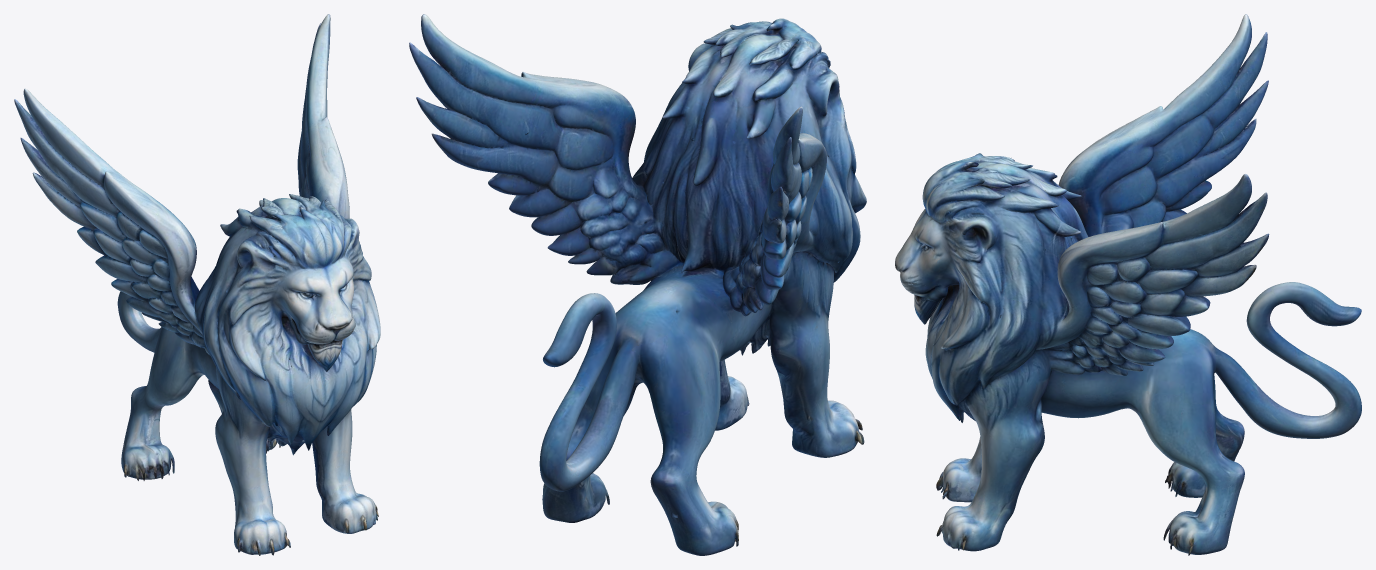
Rendered from majestic-winged-lion-blue-desktop.glb.
3 renders of one model, left to right at view 1: azimuth 30°, elevation 25°; view 2: azimuth 150°, elevation 25°; view 3: azimuth 270°, elevation 25°, orthographic. The views are drawn at different scales.
Size of the model in its own units: 0.4111 by 0.5 by 0.4999.
1 material, 1 textured.
